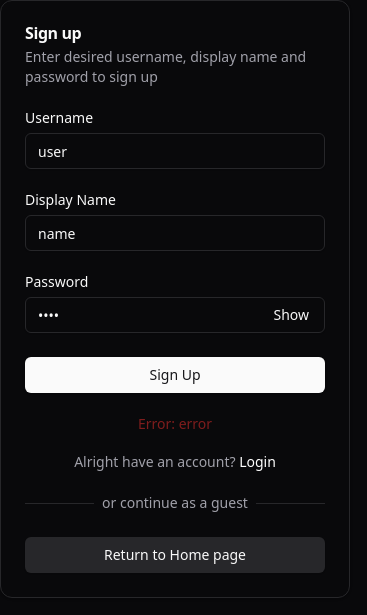
renders and toggles password visibility
Click the text "Show": {"x": 291, "y": 315} [274, 308, 309, 322]
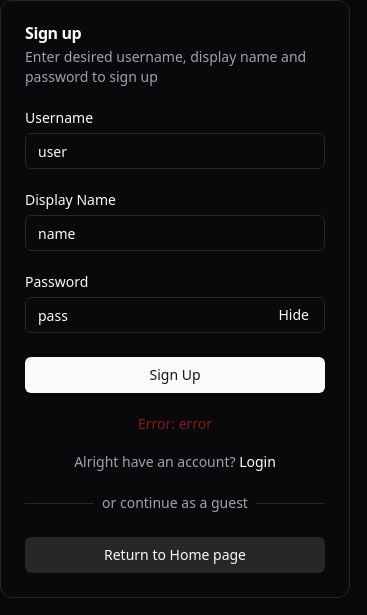
Check: the field labelled "Password" shows its text, box [25, 297, 325, 333]
Check: the text "Hide" is shown
Click the text "Hide": {"x": 294, "y": 315} [278, 308, 309, 322]
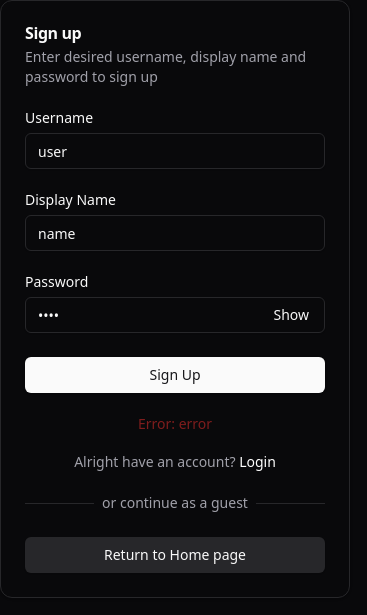
Check: the password field labelled "Password" hides its text, box [25, 297, 325, 333]
Check: the text "Show" is shown, box [274, 308, 309, 322]
